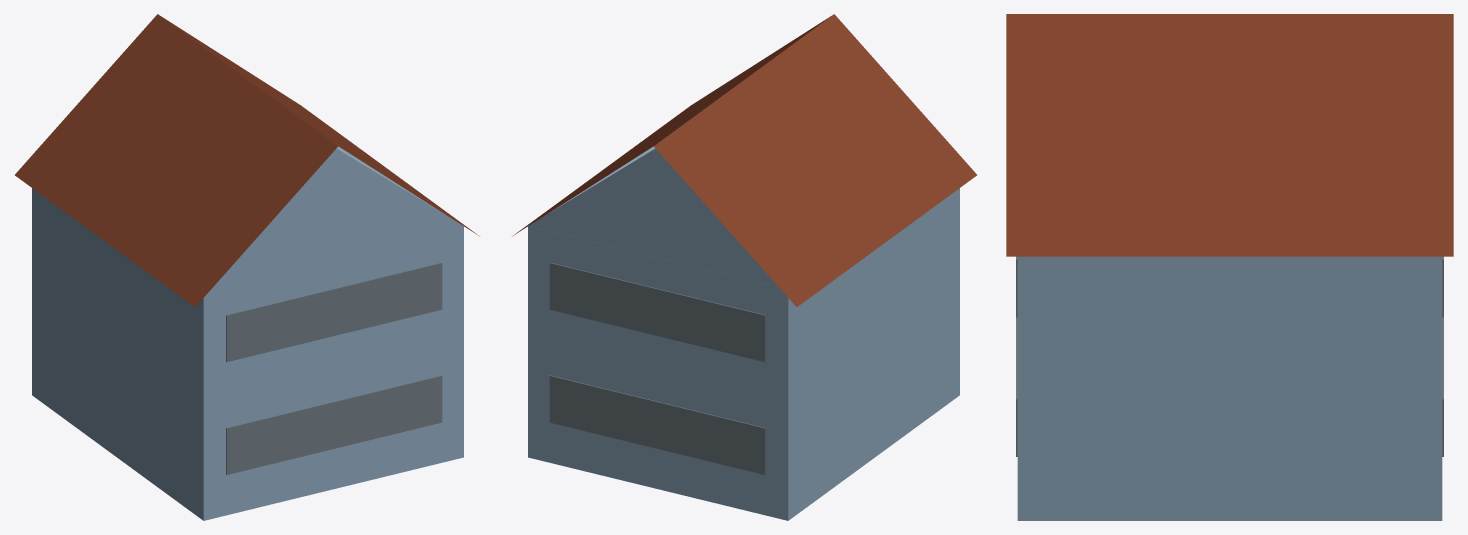
File: cove-house-blue.tone-v1.lod2.glb
3 views of the same model, side by side, from view 1: azimuth 30°, elevation 25°; view 2: azimuth 150°, elevation 25°; view 3: azimuth 270°, elevation 25° (orthographic). The views are drawn at different scales.
Visible parts, largest first — view 1: cove-house-blue; view 2: cove-house-blue; view 3: cove-house-blue.
Part boxes in pixels (left/top/right/bottom): cove-house-blue: left=15, top=14, right=479, bottom=520; cove-house-blue: left=512, top=14, right=976, bottom=520; cove-house-blue: left=1006, top=14, right=1453, bottom=520.
Size of the model in its own units: 7.7 by 8.9 by 8.42.
